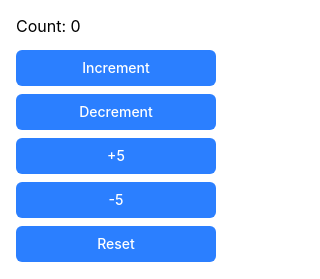
Count › increments count when Increment is clicked
Click the button "Increment": (116,68) x1=16 y1=50 x2=216 y2=86
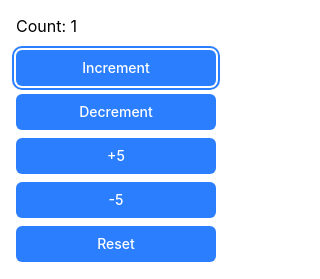
Now the text "Count: 1" is shown, box x1=16 y1=16 x2=77 y2=36
